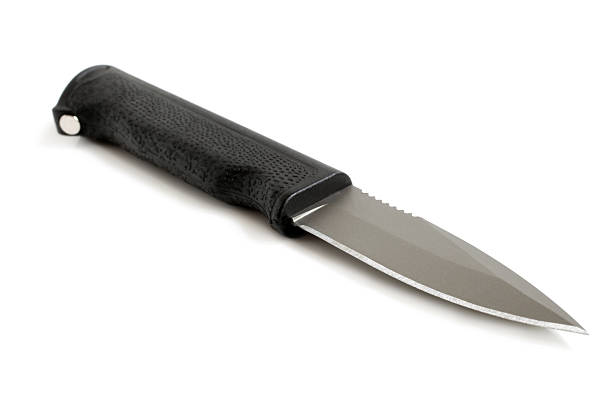knife: (50, 64, 590, 338)
